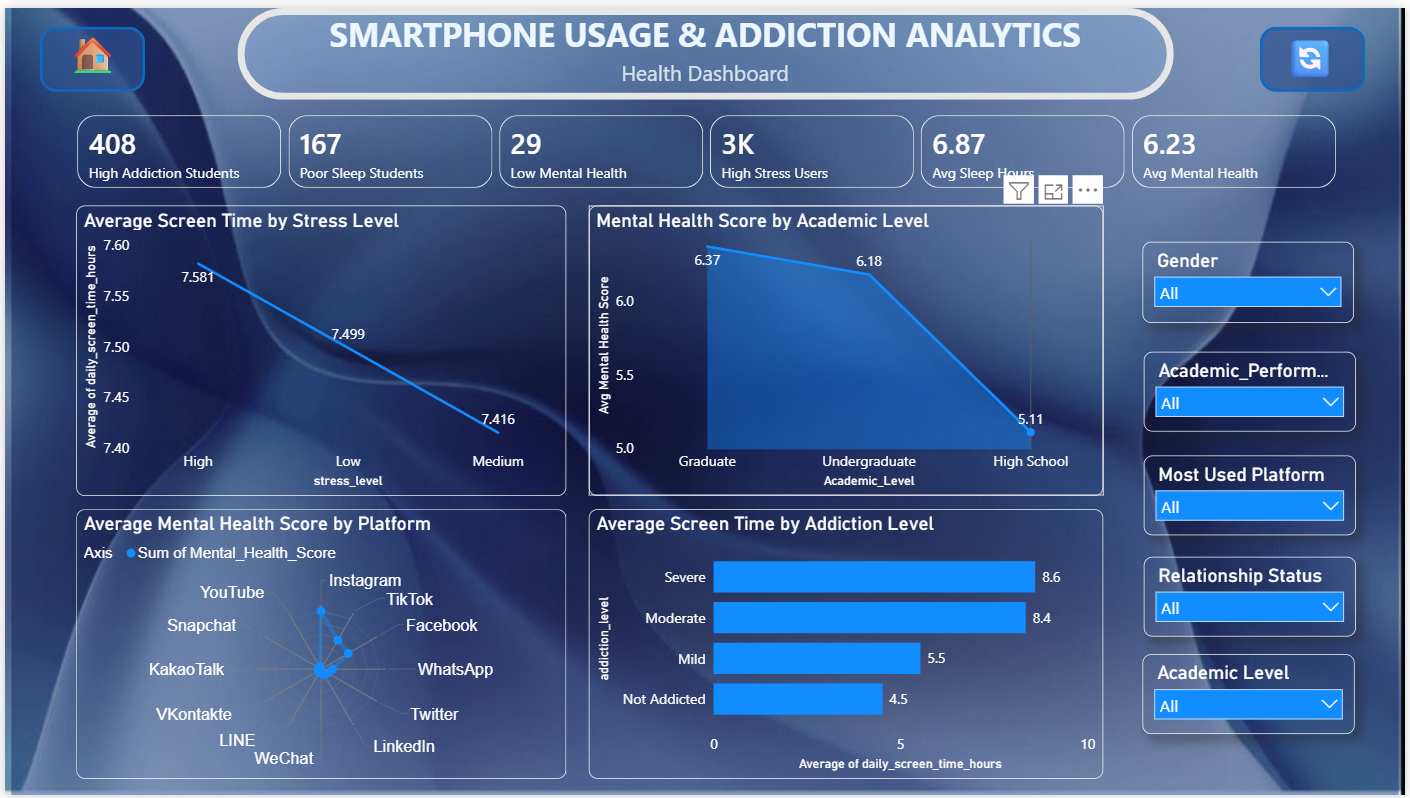

The page's visual inventory and layout, read from the dashboard file:
{"tool":"powerbi","page":{"name":"Health","canvas":[1600,900],"ordinal":4},"visuals":[{"type":"textbox","box":[0,0,1600,61.7],"z":0},{"type":"textbox","box":[0,53.3,1600,53.3],"z":1000},{"type":"shape","box":[265,0,1070,105],"z":2000},{"type":"cardVisual","fields":{"Data":["Students Social Media Addiction.High Addiction Students","Students Social Media Addiction.Poor Sleep Students","Students Social Media Addiction.Low Mental Health","Students Social Media Addiction.High Stress Users","Students Social Media Addiction.Avg Sleep Hours","Students Social Media Addiction.Avg Mental Health"]},"box":[65.4,106.1,1476.7,117.7],"z":3000},{"type":"slicer","fields":{"Values":["Students Social Media Addiction.Gender"]},"box":[1299.4,267.4,241.3,93],"z":4000},{"type":"slicer","title":"Academic_Perform","fields":{"Values":["Students Social Media Addiction.Affects_Academic_Performance"]},"box":[1300.9,392.4,242.7,91.6],"z":5000},{"type":"slicer","fields":{"Values":["Students Social Media Addiction.Most_Used_Platform"]},"box":[1300.9,511.6,242.7,91.6],"z":6000},{"type":"slicer","fields":{"Values":["Students Social Media Addiction.Relationship_Status"]},"box":[1300.9,626.5,242.7,91.6],"z":7000},{"type":"slicer","fields":{"Values":["Students Social Media Addiction.Academic_Level"]},"box":[1299.4,738.4,242.7,91.6],"z":8000},{"type":"lineChart","title":"Average Screen Time by Stress Level","fields":{"Category":["Smartphone_Usage_Cleaned.stress_level"],"Y":["Avg(Smartphone_Usage_Cleaned.daily_screen_time_hours)"]},"box":[81.7,225,560,331.7],"z":9000},{"type":"areaChart","title":"Mental Health Score by Academic Level","fields":{"Category":["Students Social Media Addiction.Academic_Level"],"Y":["Students Social Media Addiction.Avg Mental Health Score"]},"box":[666.7,225,588.3,331.7],"z":10000},{"type":"RadarChart1446119667547","title":"Average Mental Health Score by Platform","fields":{"Category":["Students Social Media Addiction.Most_Used_Platform"],"Y":["Sum(Students Social Media Addiction.Mental_Health_Score)"]},"box":[81.7,573.3,560,308.3],"z":11000},{"type":"clusteredBarChart","title":"Average Screen Time by Addiction Level","fields":{"Category":["Smartphone_Usage_Cleaned.addiction_level"],"Y":["Avg(Smartphone_Usage_Cleaned.daily_screen_time_hours)"]},"box":[667,573,588,308],"z":12000},{"type":"shape","box":[1434.3,21.4,120,74.3],"z":13000},{"type":"shape","box":[40,21.4,120,74.3],"z":14000},{"type":"textbox","box":[65,17.5,72.5,82.5],"z":15000},{"type":"textbox","box":[1457.1,21.4,75.7,78.6],"z":16000}]}

Visuals, with their boxes in screenshot pixels (x1, y1, x2, y2), scaled from the page's 1600x900 canvas onto the 1410x798 screenshot:
textbox: left=0, top=0, right=1409, bottom=55
textbox: left=0, top=47, right=1409, bottom=95
shape: left=234, top=0, right=1176, bottom=93
cardVisual - Students Social Media Addiction.High Addiction Students x Students Social Media Addiction.Poor Sleep Students: left=58, top=94, right=1359, bottom=198
slicer - Students Social Media Addiction.Gender: left=1145, top=237, right=1358, bottom=320
"Academic_Perform" slicer: left=1146, top=348, right=1360, bottom=429
slicer - Students Social Media Addiction.Most_Used_Platform: left=1146, top=454, right=1360, bottom=535
slicer - Students Social Media Addiction.Relationship_Status: left=1146, top=555, right=1360, bottom=637
slicer - Students Social Media Addiction.Academic_Level: left=1145, top=655, right=1359, bottom=736
"Average Screen Time by Stress Level" lineChart: left=72, top=200, right=565, bottom=494
"Mental Health Score by Academic Level" areaChart: left=588, top=200, right=1106, bottom=494
"Average Mental Health Score by Platform" RadarChart1446119667547: left=72, top=508, right=565, bottom=782
"Average Screen Time by Addiction Level" clusteredBarChart: left=588, top=508, right=1106, bottom=781
shape: left=1264, top=19, right=1370, bottom=85
shape: left=35, top=19, right=141, bottom=85
textbox: left=57, top=16, right=121, bottom=89
textbox: left=1284, top=19, right=1351, bottom=89
